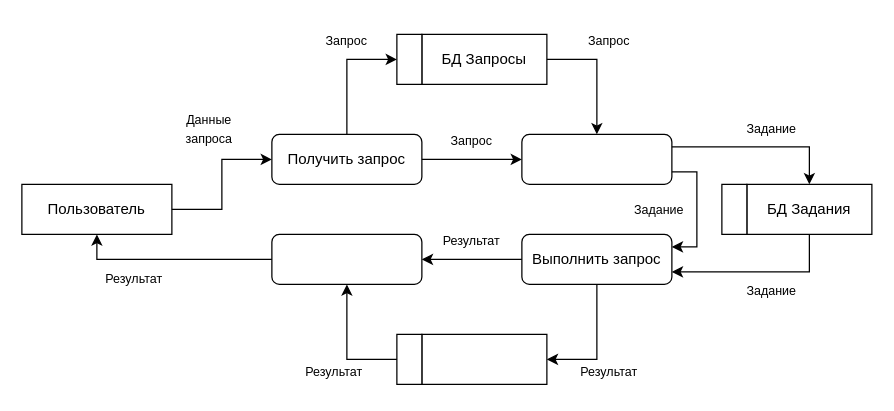
Some shapes in this 894 by 411 pixel diagram are drawn without their labels. The box of each missing label's shape, as (x1, y1, x2, y2) in pixels:
Анализировать запрос: (521, 133, 672, 184)
БД Результаты: (421, 333, 547, 384)
Отправить результат: (271, 233, 422, 284)
